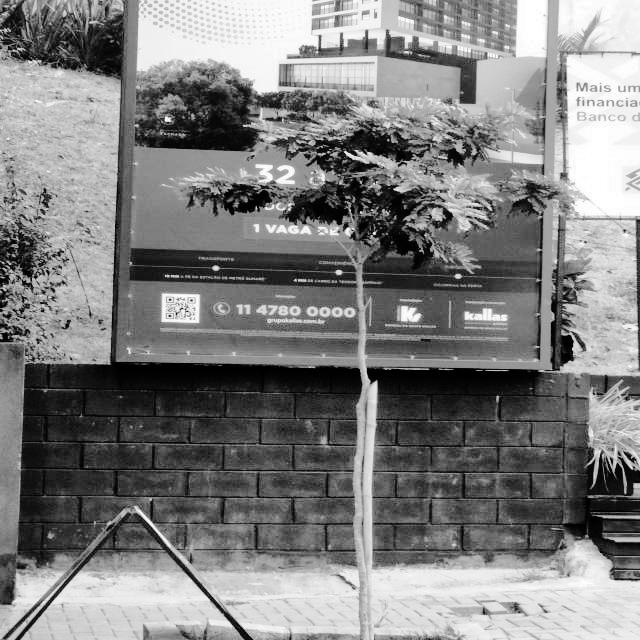qr_code: (166, 296, 196, 320)
